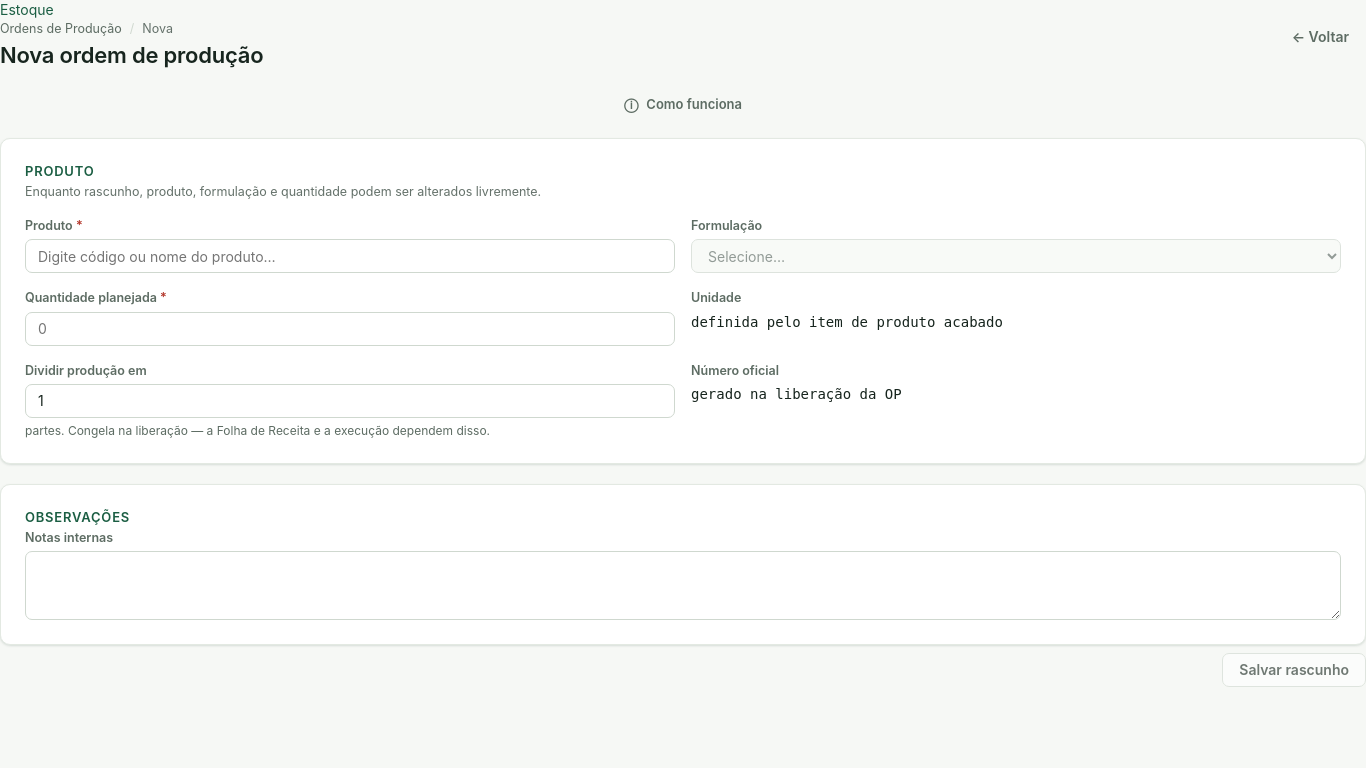
Test: OP nova — guarda de alterações não salvas › alterar a quantidade planejada pergunta antes de sair
Expected: the heading "Nova ordem de produção" is shown, [0, 42, 263, 70]
Step 1. Type "3000" into the field with id "op-quantity" → point(350, 328), box [25, 312, 675, 346]
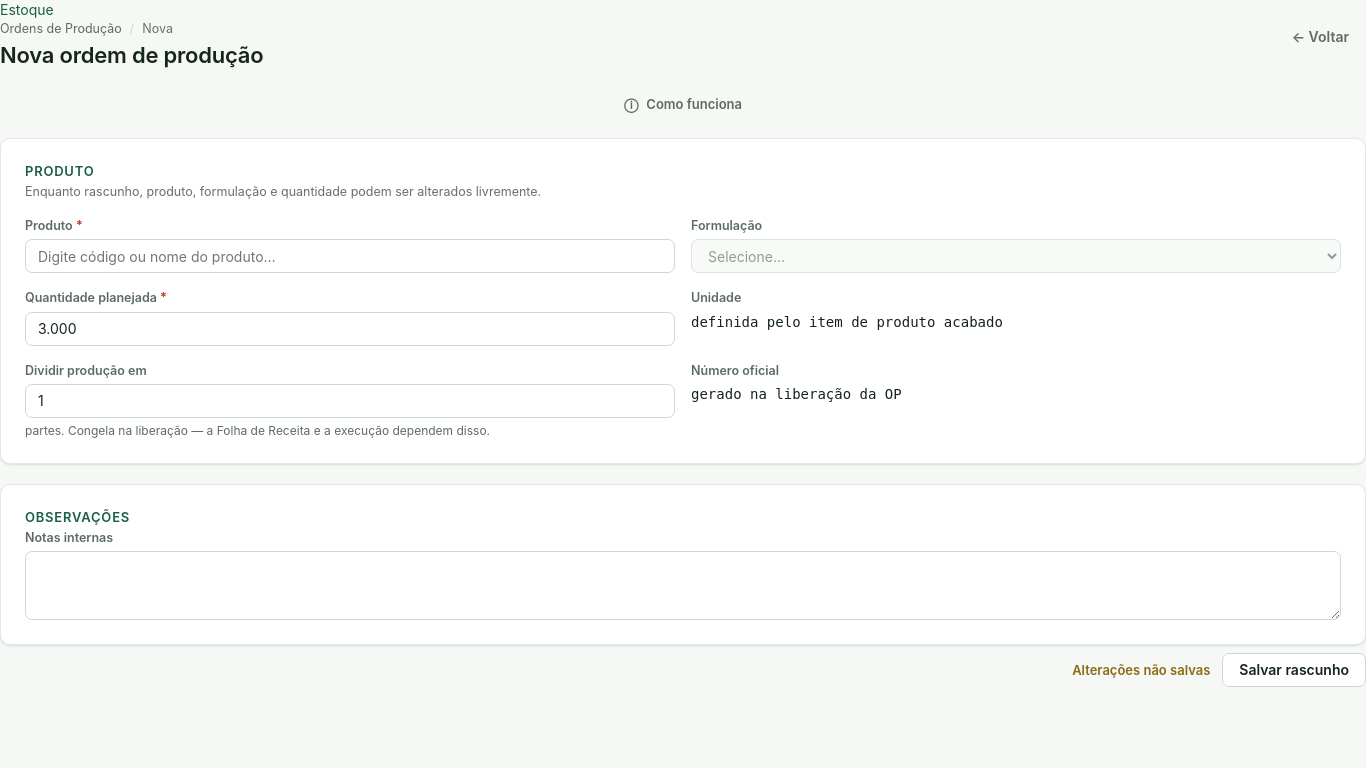
Step 2. Click the link "Estoque" → point(27, 10), box [0, 1, 54, 18]
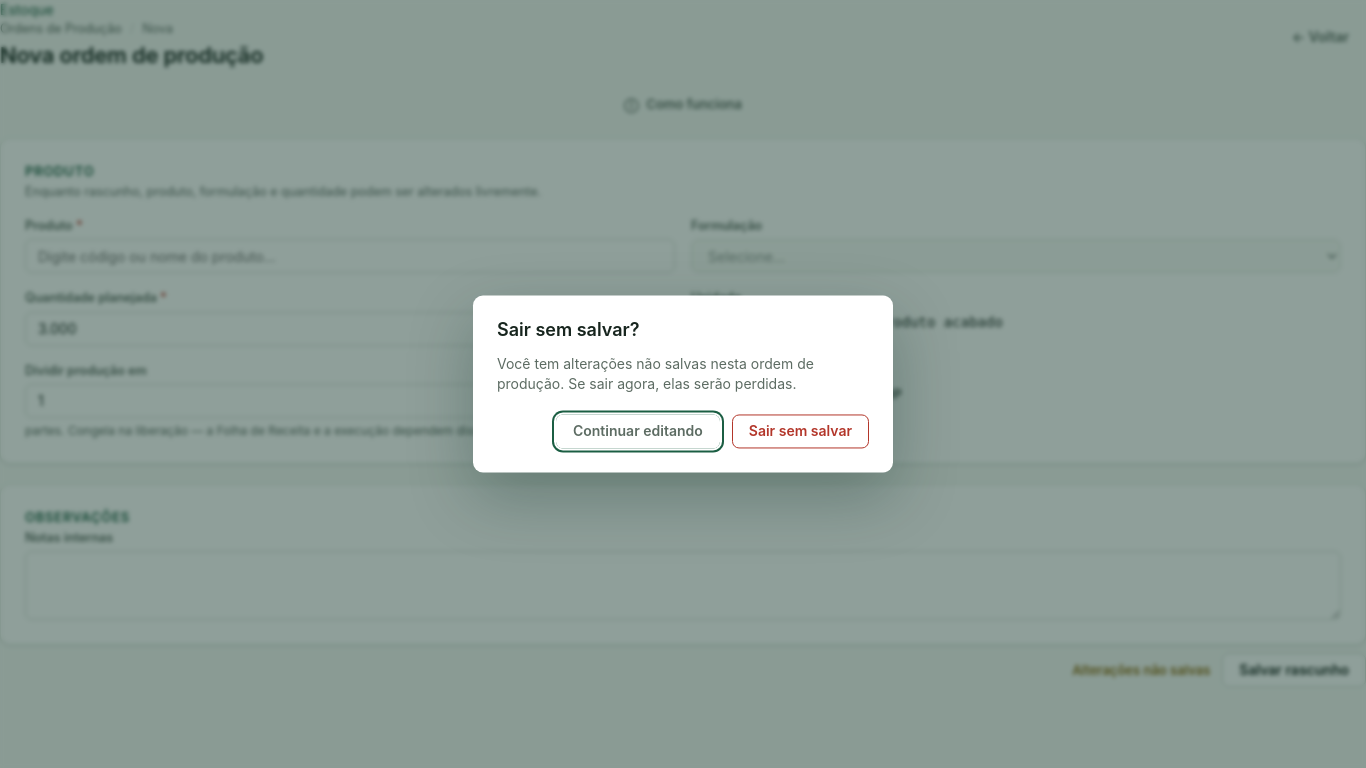
Expected: the heading "Sair sem salvar?" is shown, [497, 320, 640, 340]
Expected: the text "alterações não salvas nesta ordem de produção" is shown, [497, 354, 869, 395]
